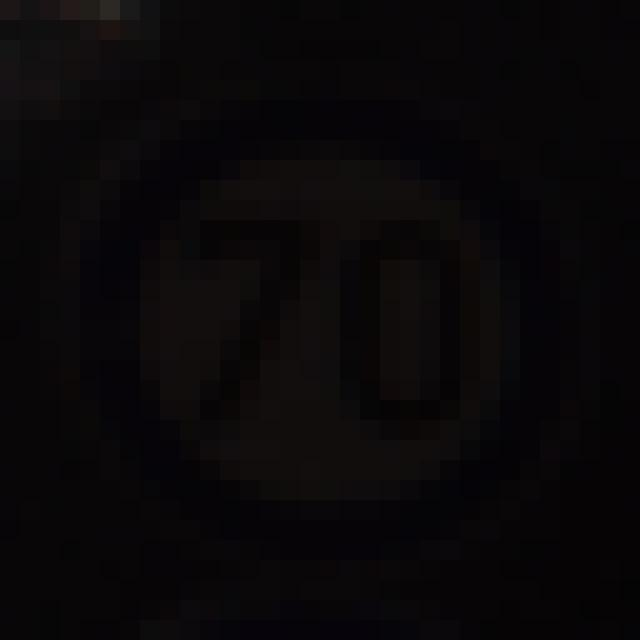SPEED LIMIT 70: (74, 105, 592, 564)
